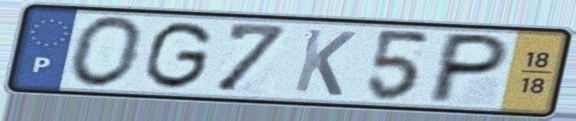5: (362, 26, 435, 105)
7: (217, 20, 290, 95)
G: (140, 19, 217, 92)
K: (290, 26, 360, 99)
O: (66, 13, 149, 91)
P: (422, 30, 516, 105)
